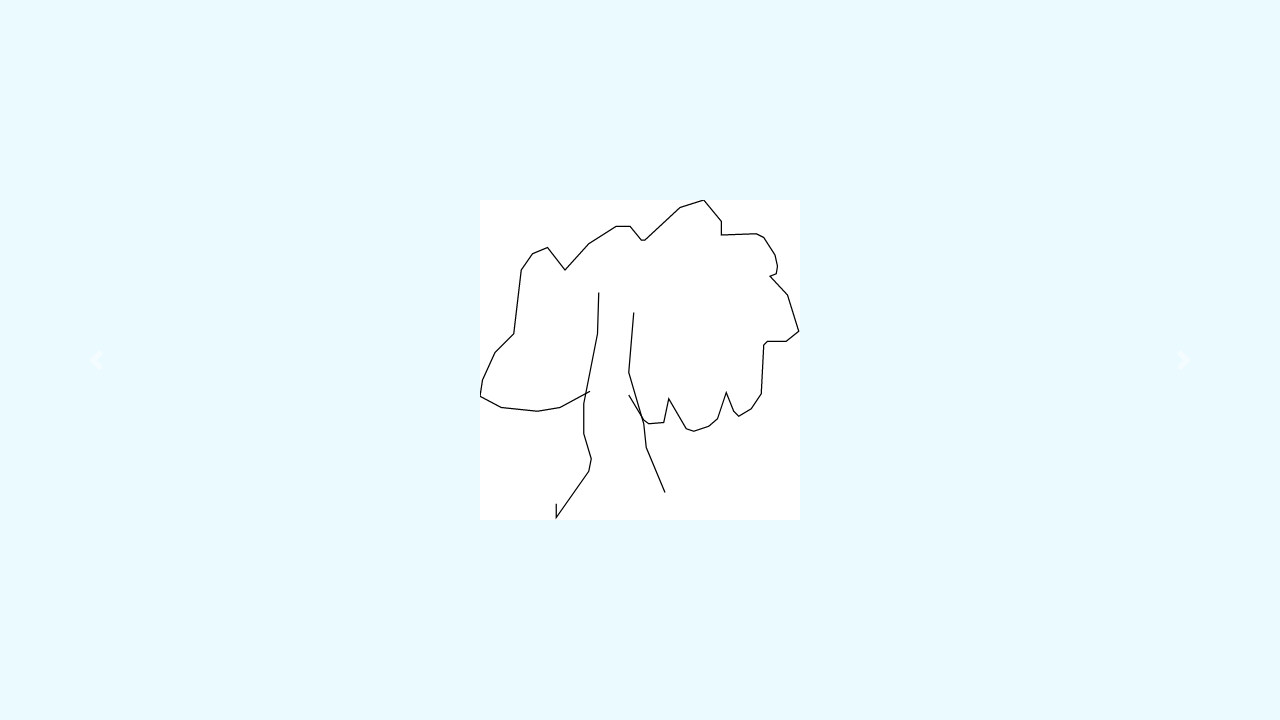tree: (469, 188, 808, 527)
